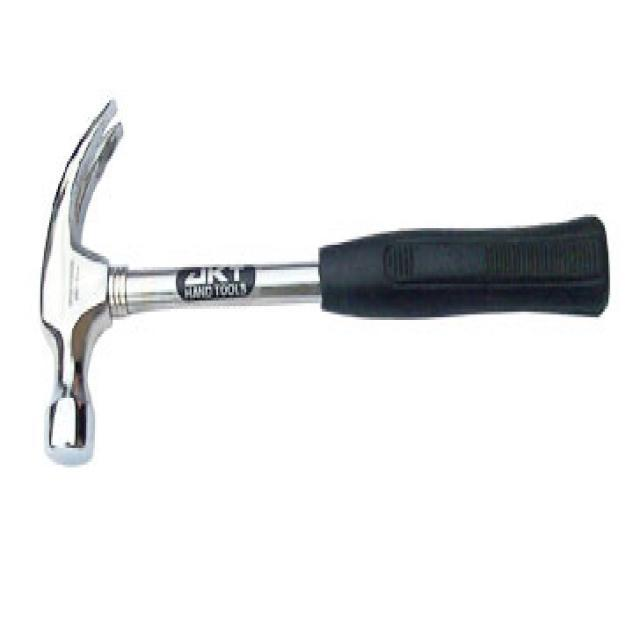hammer: (28, 82, 614, 479)
